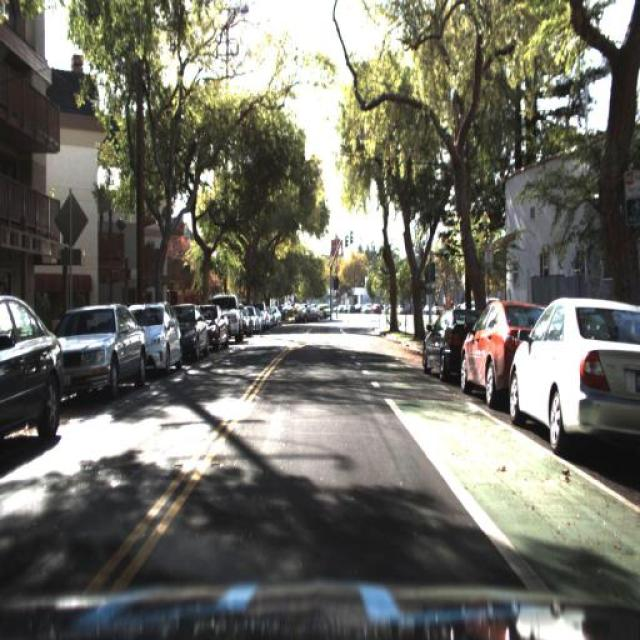car: (504, 294, 636, 450), (0, 290, 64, 456), (453, 296, 551, 399), (51, 300, 148, 394), (130, 299, 184, 380), (170, 296, 209, 364), (423, 302, 455, 378), (210, 290, 245, 345), (195, 304, 229, 354), (367, 300, 385, 318)
